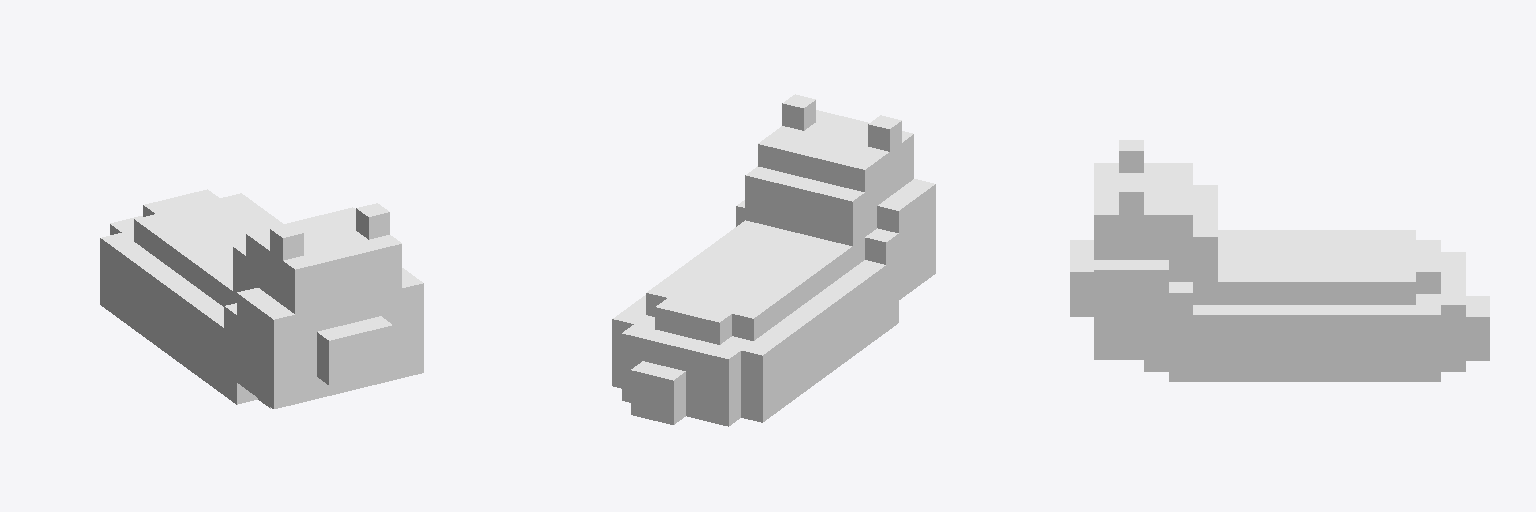
Rendered from hamster-1.obj.
3 renders of one model, left to right at view 1: azimuth 30°, elevation 25°; view 2: azimuth 150°, elevation 25°; view 3: azimuth 270°, elevation 25°, orthographic.
Visible parts, largest first — view 1: object 1; view 2: object 1; view 3: object 1.
Part boxes in pixels (x1,y1,x2,y2): object 1: (100, 189, 423, 408); object 1: (612, 94, 935, 426); object 1: (1070, 140, 1489, 381).
Size of the model in its own units: 0.7 by 0.8 by 1.7.